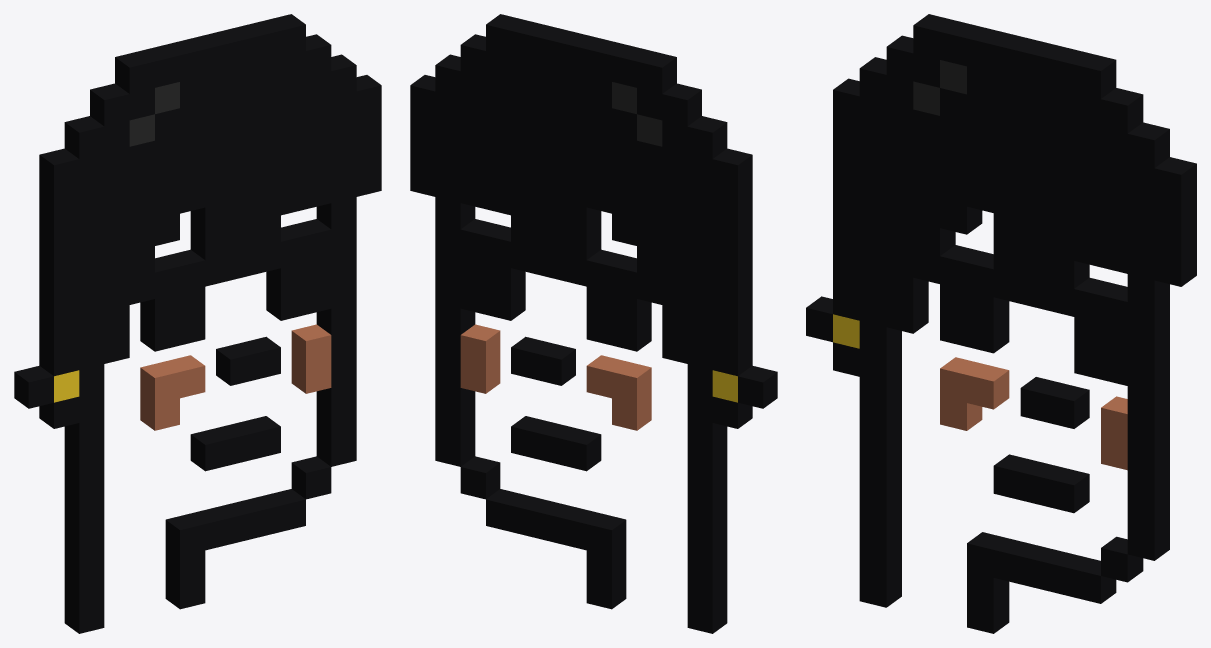
The picture shows the model from 3 angles, left to right: view 1: azimuth 30°, elevation 25°; view 2: azimuth 150°, elevation 25°; view 3: azimuth 330°, elevation 25°; orthographic projection. The views are drawn at different scales.
Parts seen in each view (by area): view 1: NoPunk_1762_Mesh; view 2: NoPunk_1762_Mesh; view 3: NoPunk_1762_Mesh.
Part boxes in pixels (x1,y1,x2,y2): NoPunk_1762_Mesh: (14, 14, 381, 633); NoPunk_1762_Mesh: (410, 14, 777, 633); NoPunk_1762_Mesh: (806, 14, 1196, 633).
Bounding box in the file's own units: 14 × 21 × 1.
